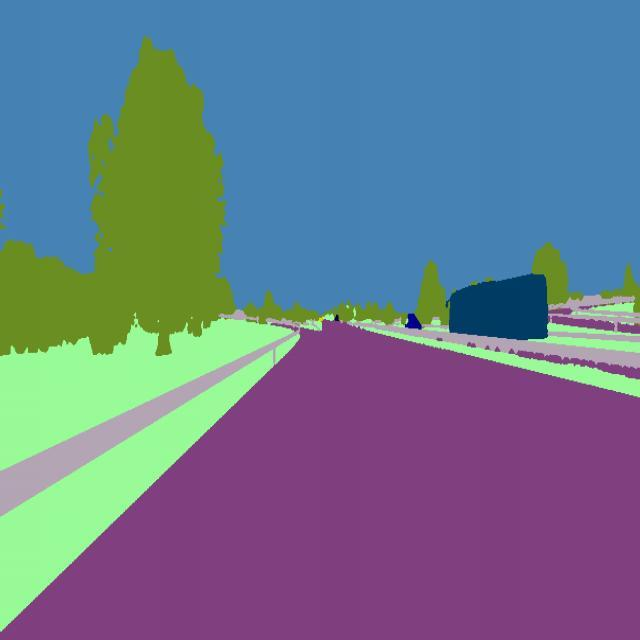safe: (447, 272, 551, 352), (398, 309, 428, 331)
